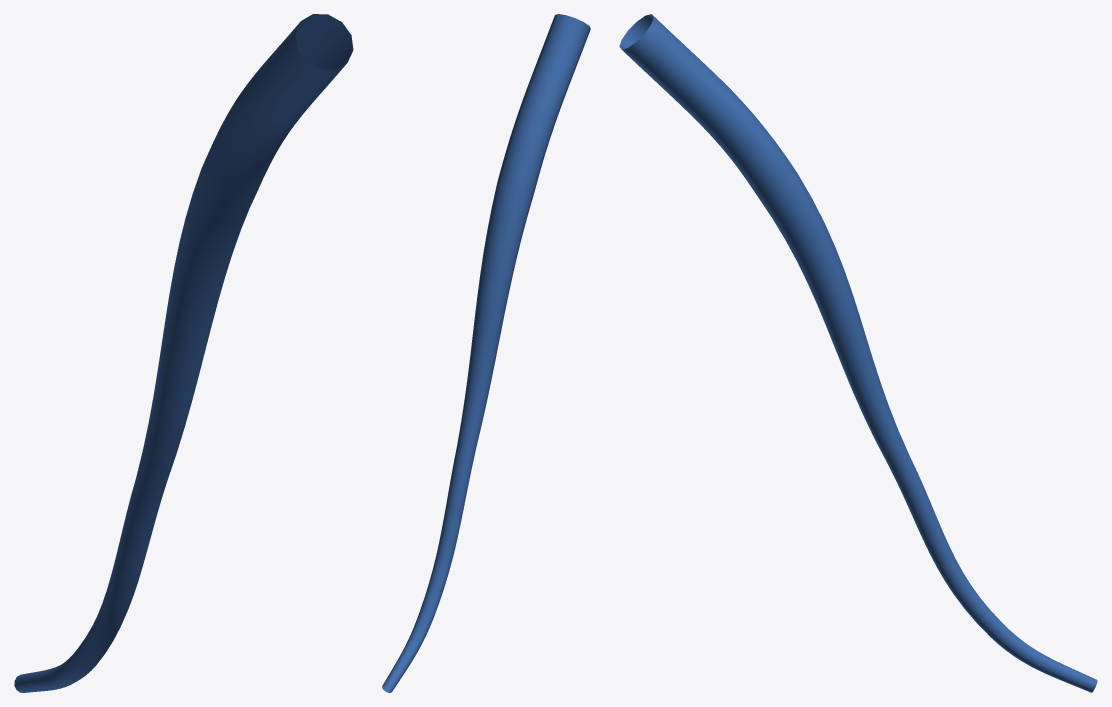
3 views of the same model, side by side, from view 1: azimuth 30°, elevation 25°; view 2: azimuth 150°, elevation 25°; view 3: azimuth 270°, elevation 25° (orthographic). The views are drawn at different scales.
Visible parts, largest first — view 1: 枕窦; view 2: 枕窦; view 3: 枕窦.
Part boxes in pixels (x1,y1,x2,y2): 枕窦: [14, 14, 353, 692]; 枕窦: [382, 14, 590, 692]; 枕窦: [619, 14, 1097, 692].
Bounding box in the file's own units: 0.00295 × 0.0462 × 0.0297.
